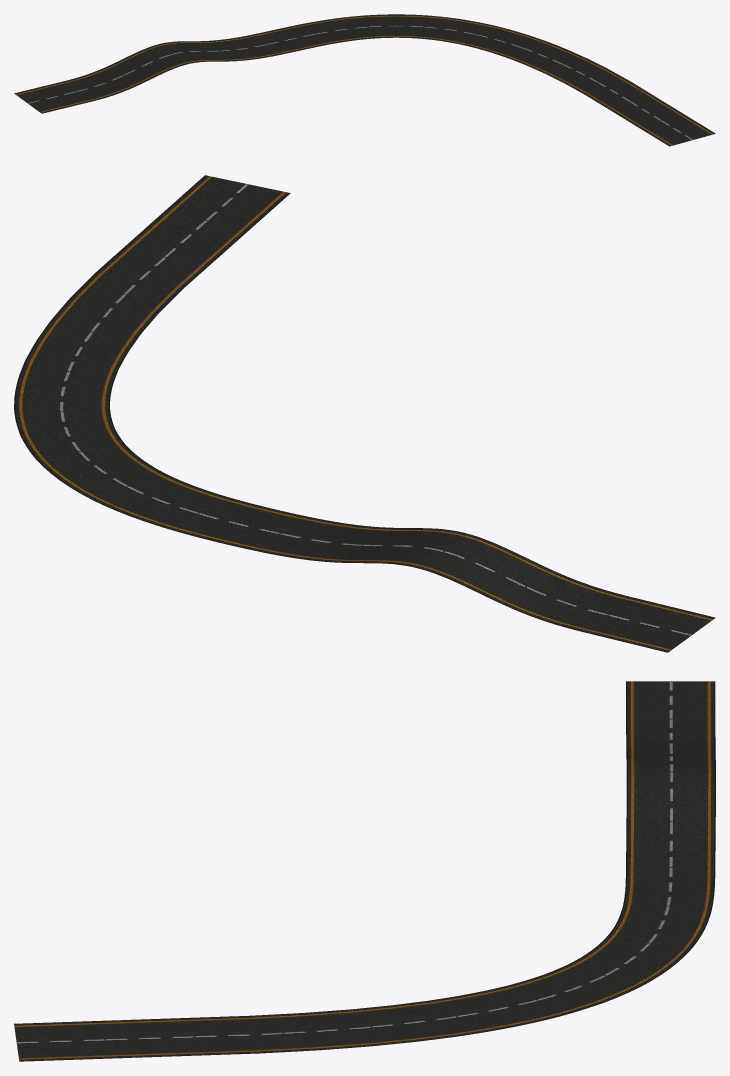
The picture shows the model from 3 angles, top to bottom: view 1: azimuth 30°, elevation 25°; view 2: azimuth 150°, elevation 25°; view 3: azimuth 270°, elevation 25°; orthographic projection. The views are drawn at different scales.
Parts seen in each view (by area): view 1: Plane.002, Plane.001, Plane, Plane.014, Plane.010, Plane.011, Plane.012, Plane.013, Plane.006, Plane.007, Plane.009, Plane.008 (+3 smaller); view 2: Plane.002, Plane.001, Plane.006, Plane.007, Plane.008, Plane, Plane.009, Plane.010, Plane.011, Plane.012, Plane.014, Plane.013 (+3 smaller); view 3: Plane.003, Plane.004, Plane.005, Plane.008, Plane.012, Plane.013, Plane.014, Plane.011, Plane.010, Plane.006, Plane.009, Plane.007 (+3 smaller).
Boxes of the visible parts, <box> form: Plane.002: <box>110,45,184,85</box>; Plane.001: <box>62,65,137,101</box>; Plane: <box>14,82,89,113</box>; Plane.014: <box>638,114,715,146</box>; Plane.010: <box>504,39,581,71</box>; Plane.011: <box>542,56,618,89</box>; Plane.012: <box>575,75,651,107</box>; Plane.013: <box>607,95,683,126</box>; Plane.006: <box>304,15,372,44</box>; Plane.007: <box>364,14,427,38</box>; Plane.009: <box>463,24,538,56</box>; Plane.008: <box>419,15,488,44</box>; Plane.002: <box>421,534,549,604</box>; Plane.001: <box>503,569,632,632</box>; Plane.006: <box>91,473,226,529</box>; Plane.007: <box>35,444,164,499</box>; Plane.008: <box>14,411,124,458</box>; Plane: <box>585,597,715,652</box>; Plane.009: <box>14,368,116,412</box>; Plane.010: <box>22,326,137,374</box>; Plane.011: <box>47,286,169,337</box>; Plane.012: <box>82,248,207,301</box>; Plane.014: <box>164,175,290,229</box>; Plane.013: <box>123,212,249,266</box>; Plane.003: <box>626,771,715,821</box>; Plane.004: <box>626,821,715,867</box>; Plane.005: <box>623,867,715,907</box>; Plane.008: <box>514,963,638,1015</box>; Plane.012: <box>192,1014,288,1055</box>; Plane.013: <box>103,1017,197,1058</box>; Plane.014: <box>14,1020,108,1061</box>; Plane.011: <box>278,1008,380,1051</box>; Plane.010: <box>362,998,472,1045</box>; Plane.006: <box>607,904,711,949</box>; Plane.009: <box>442,984,560,1033</box>; Plane.007: <box>571,936,690,987</box>.
Bounding box in the file's own units: 81.09 × 2.21 × 63.26.
1 material, 1 textured.
